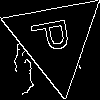P: (30, 14, 79, 55)
